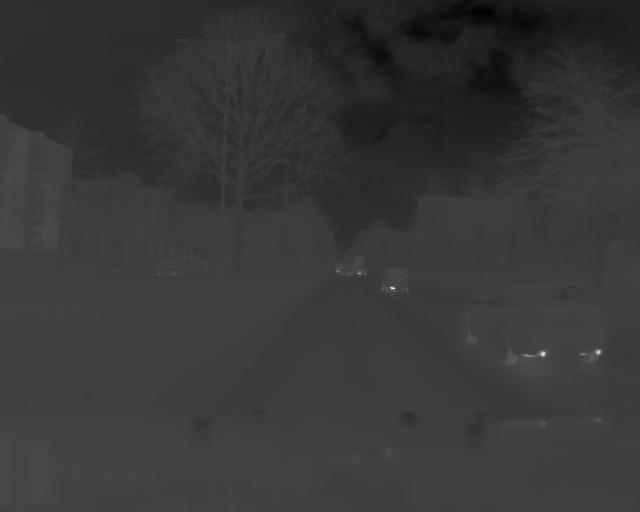car: (458, 277, 616, 369), (378, 267, 410, 298)
